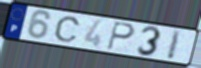3: (136, 25, 163, 58)
4: (82, 19, 105, 49)
6: (25, 9, 54, 42)
C: (53, 15, 82, 43)
I: (165, 29, 183, 61)
P: (106, 20, 136, 51)
